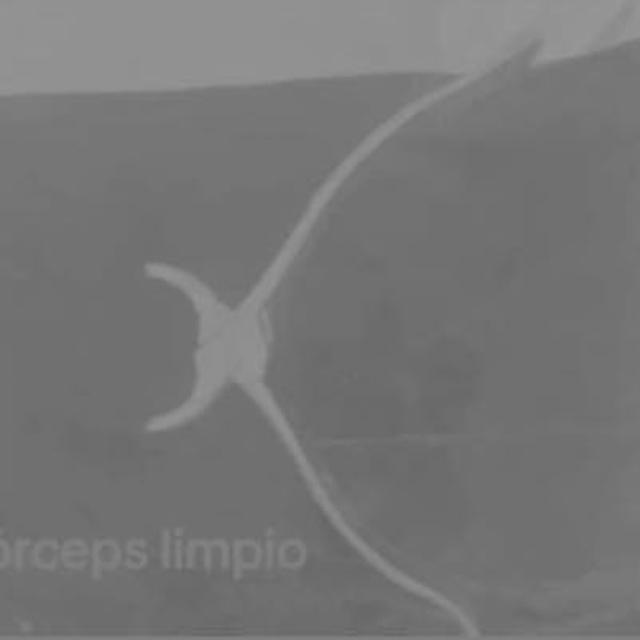forceps: (134, 79, 483, 639)
